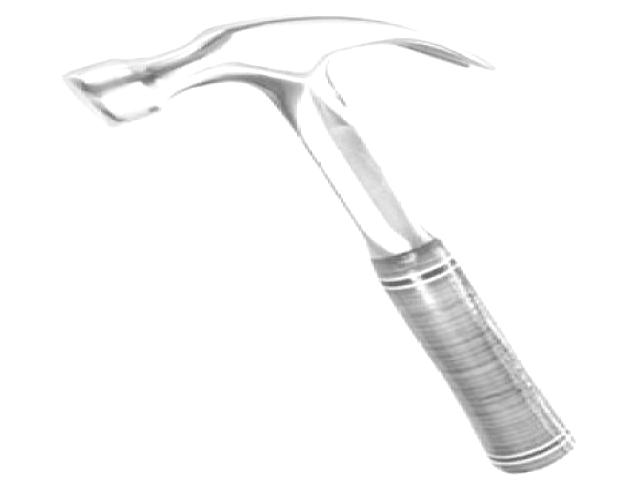Hammer: (62, 15, 575, 473)
